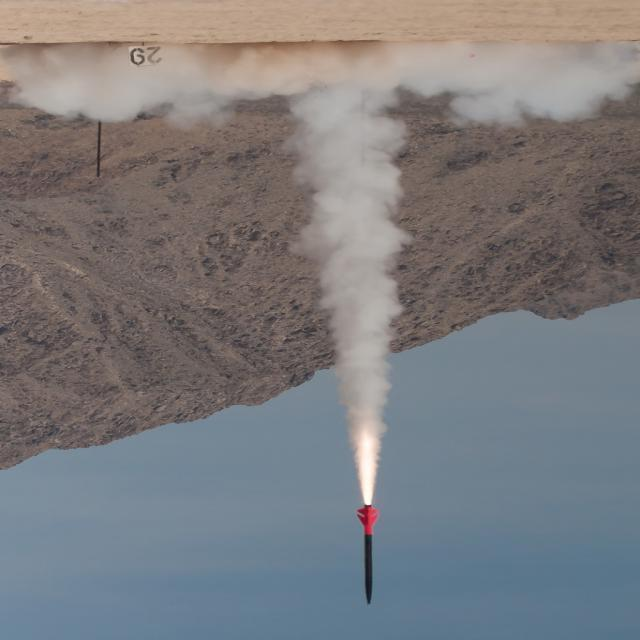missile: (354, 502, 386, 607)
